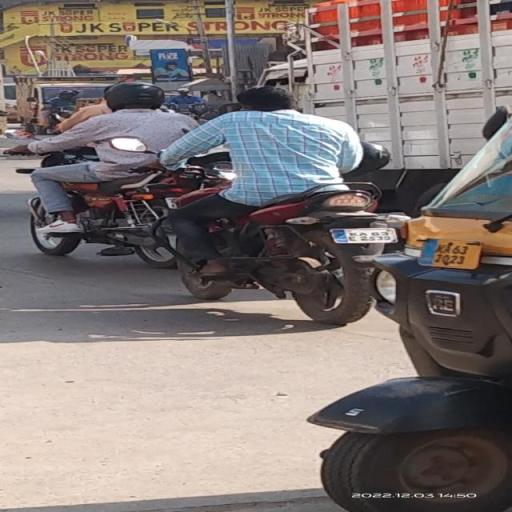bike: (108, 68, 411, 324)
numberplate: (332, 226, 398, 244)
using mobile: (237, 106, 257, 112)
withouthelmet: (236, 86, 295, 109)
